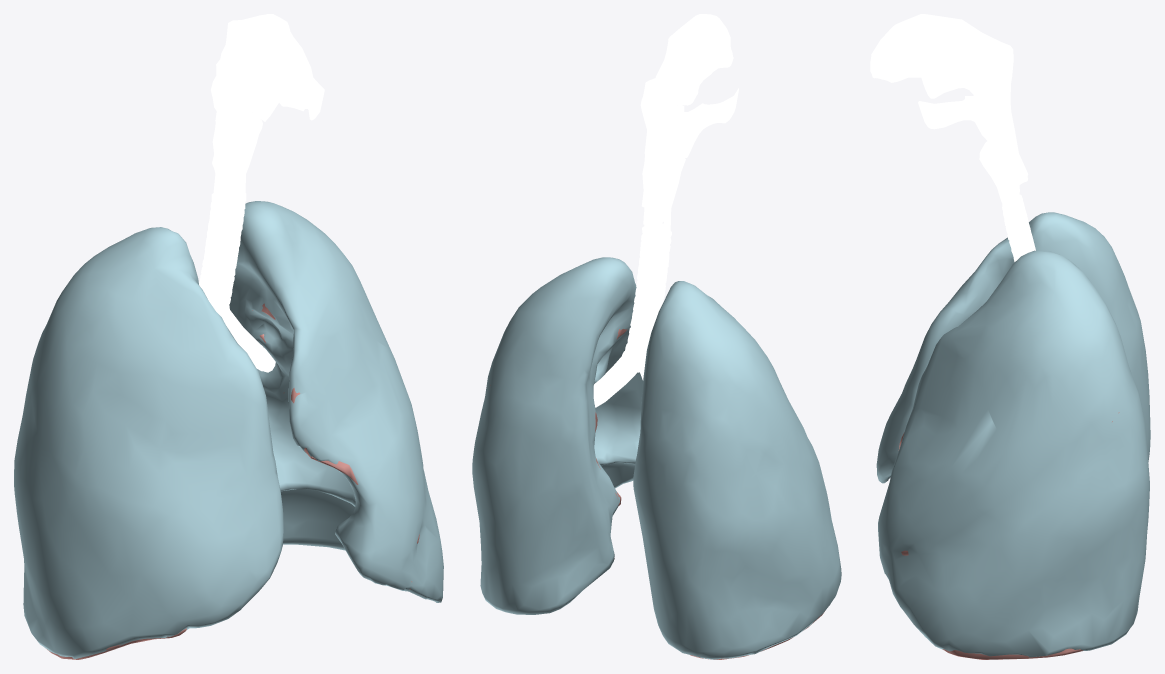
The model's file is system_respiratory.glb.
3 renders of one model, left to right at view 1: azimuth 30°, elevation 25°; view 2: azimuth 150°, elevation 25°; view 3: azimuth 270°, elevation 25°, orthographic. The views are drawn at different scales.
Visible parts, largest first — view 1: system_respiratory; view 2: system_respiratory; view 3: system_respiratory.
Boxes of the visible parts, x1,y1,x2,y2 form: system_respiratory: [14, 14, 443, 659]; system_respiratory: [472, 14, 841, 659]; system_respiratory: [870, 14, 1150, 659].
Size of the model in its own units: 0.2773 by 0.4535 by 0.2028.
